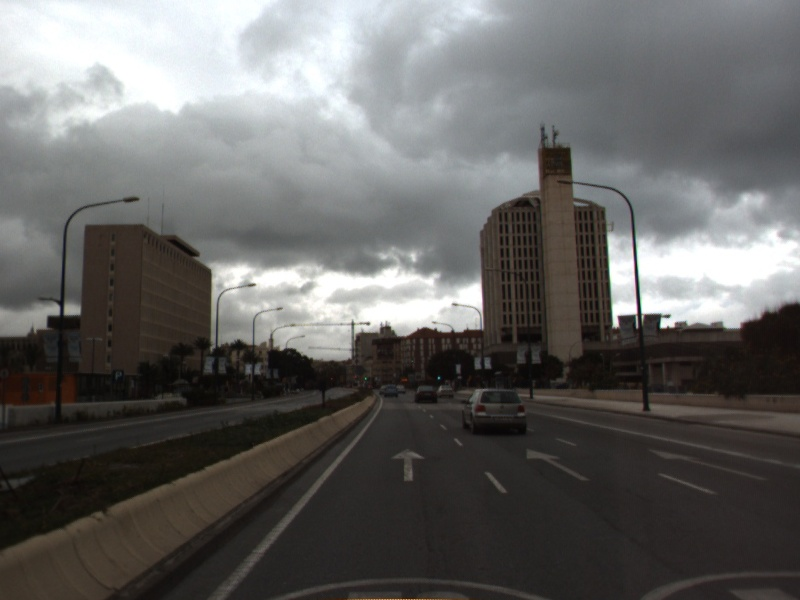STRAIGHT: (646, 446, 770, 483), (524, 446, 592, 483), (389, 446, 429, 483)
